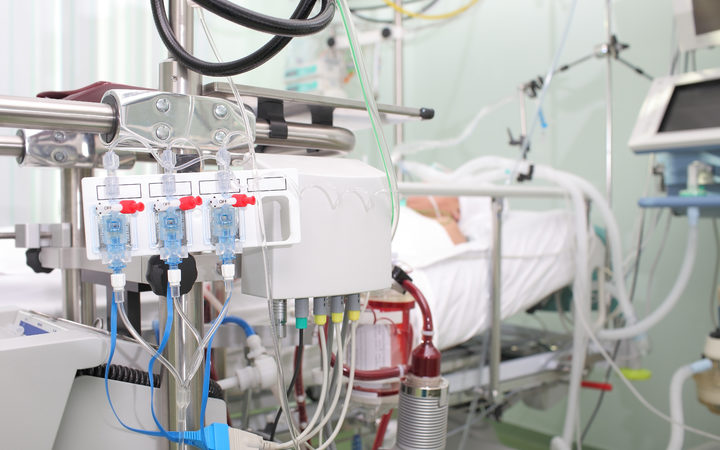bedrail: (385, 179, 626, 383)
breathing_tube: (544, 211, 707, 348)
patient: (395, 171, 482, 262)
ventilator: (618, 51, 720, 438)
